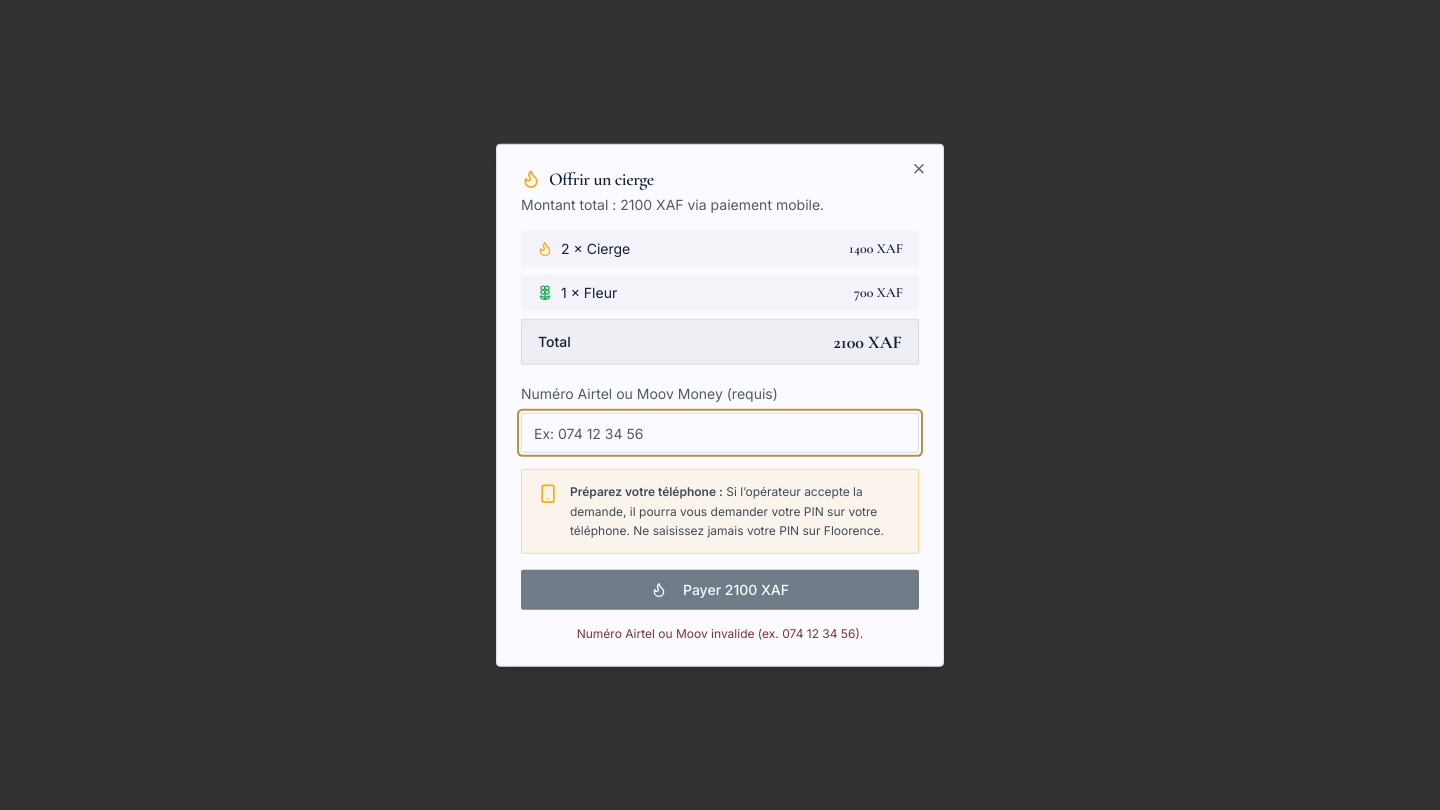
Test: shows amount, gesture and operator before any debit
Type "074123456" into the field labelled "Numéro Airtel ou Moov Money (requis)" at point(720, 433), box [521,413,919,453]
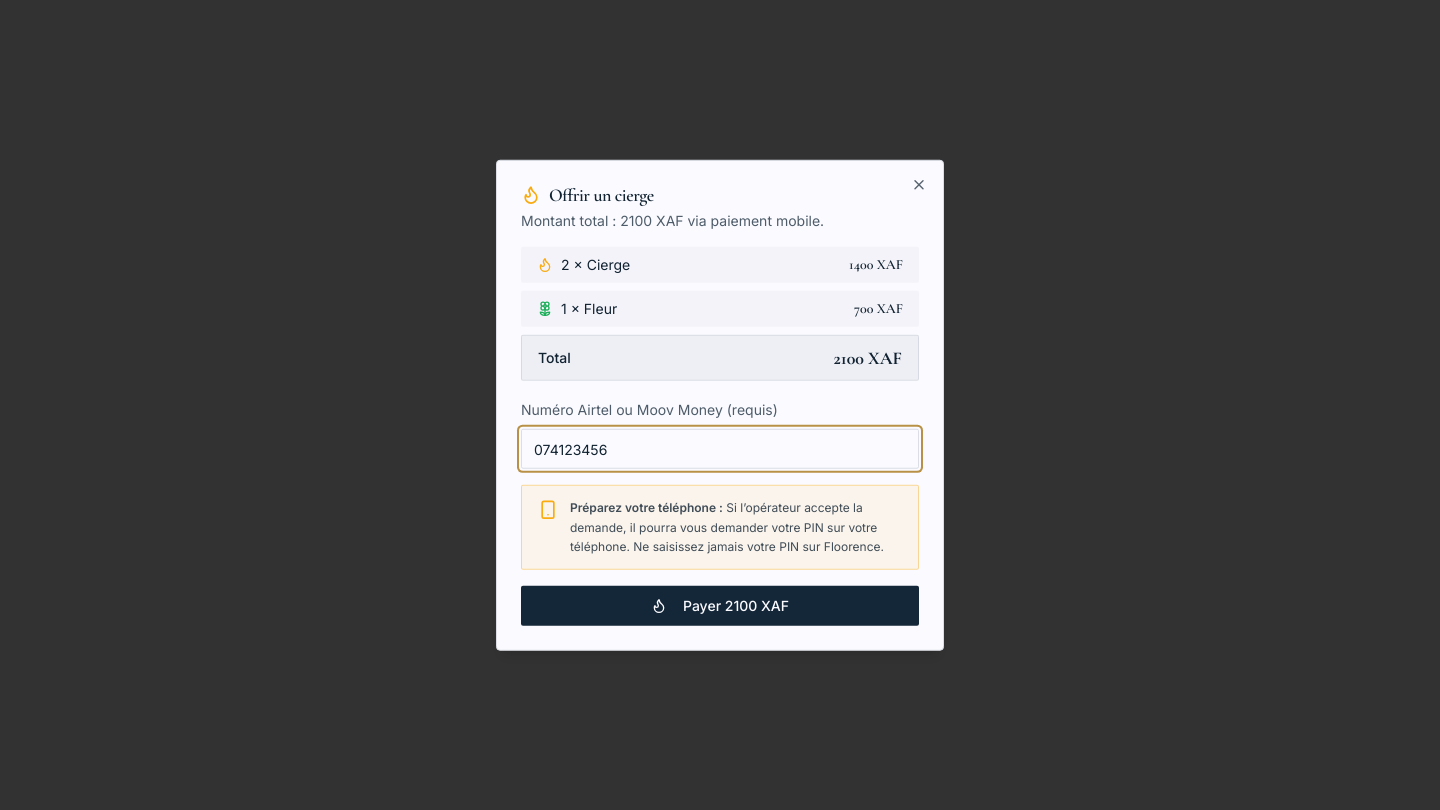
Click the button "Payer 2100 XAF" at point(720, 605), box [521,585,919,625]
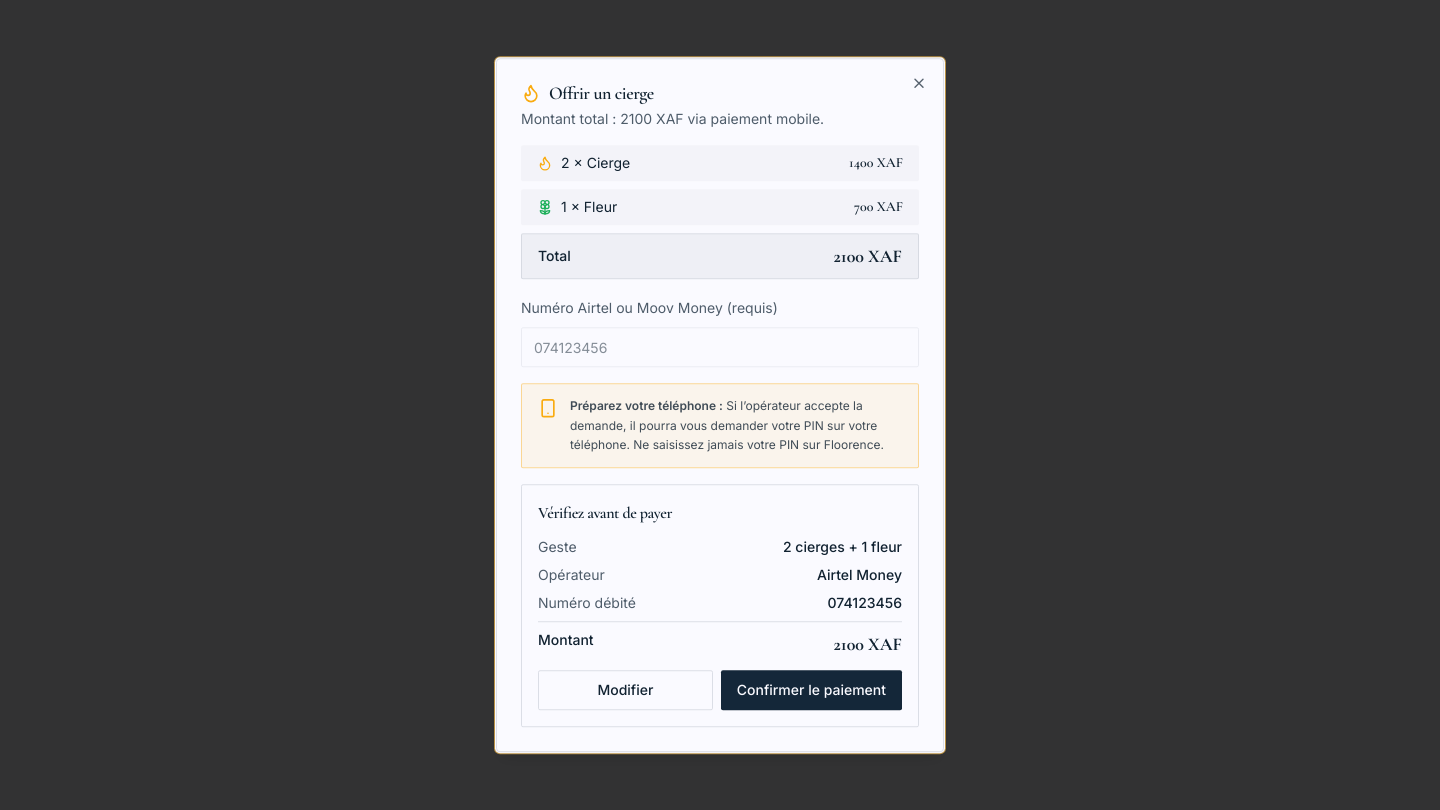
Check: the element named "Confirmation du paiement" shows "2 cierges + 1 fleur", box [783,538,902,555]
Check: the element named "Confirmation du paiement" shows "Airtel Money", box [817,566,902,583]
Check: the element named "Confirmation du paiement" shows "2100 XAF", box [521,484,919,727]
